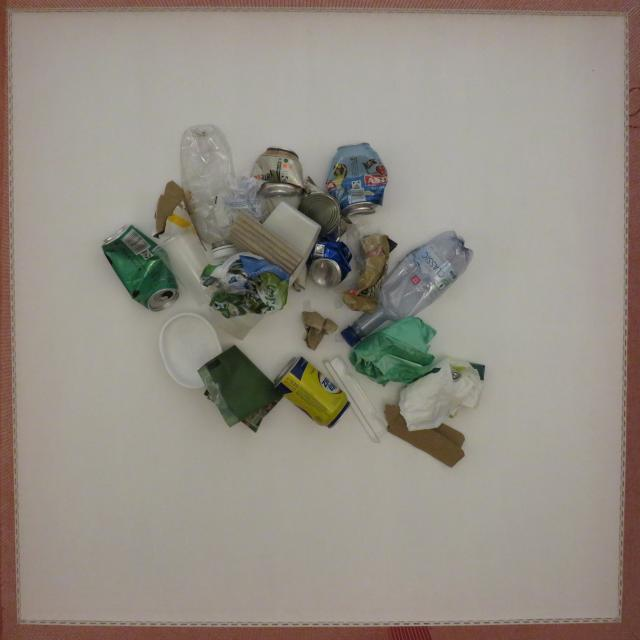cardboard: (385, 404, 465, 467), (229, 211, 302, 275), (153, 181, 206, 251), (302, 311, 338, 350), (293, 265, 307, 291)
hard_plastic: (341, 231, 473, 346), (180, 125, 237, 261), (323, 356, 386, 442), (263, 202, 321, 285), (159, 313, 222, 388), (153, 227, 210, 305), (211, 310, 263, 340)
metal: (102, 225, 179, 311), (274, 357, 350, 428), (326, 143, 387, 217), (298, 176, 352, 242), (252, 147, 303, 198), (309, 241, 352, 287)
soft_plastic: (198, 345, 283, 432), (399, 357, 484, 431), (349, 317, 436, 386), (201, 252, 289, 318), (334, 221, 397, 313), (215, 177, 269, 234)
